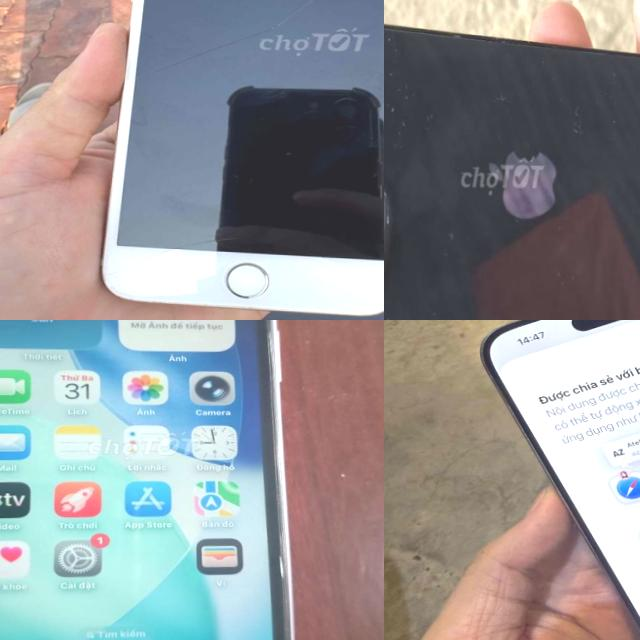scratch: (384, 15, 411, 100)
screen_defect: (124, 0, 319, 89)
